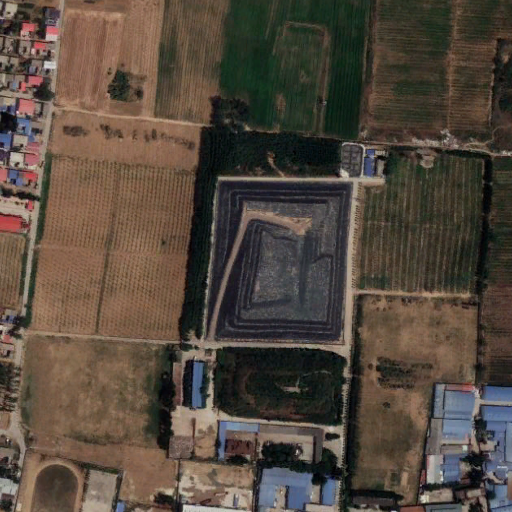lf: (208, 173, 354, 343)
